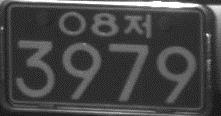0: (58, 10, 87, 36)
3: (15, 38, 55, 98)
7: (107, 42, 149, 102)
8: (89, 11, 119, 38)
9: (154, 44, 197, 103), (61, 41, 101, 99)
저: (123, 13, 152, 38)
